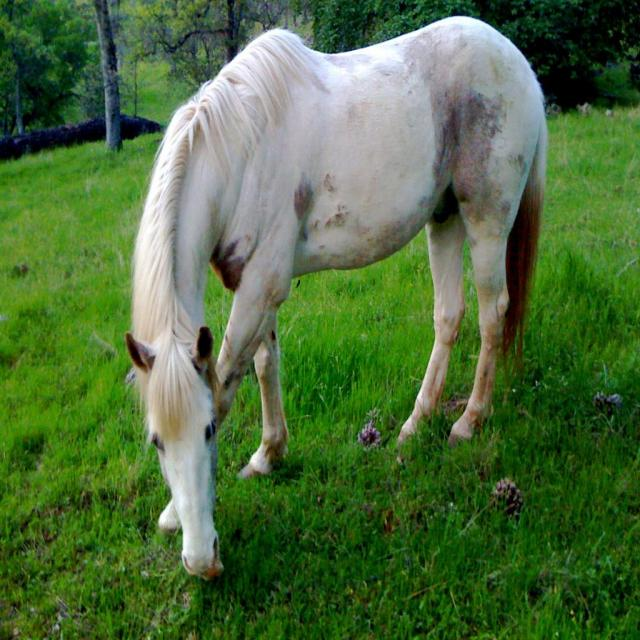Horse: (122, 24, 550, 580)
